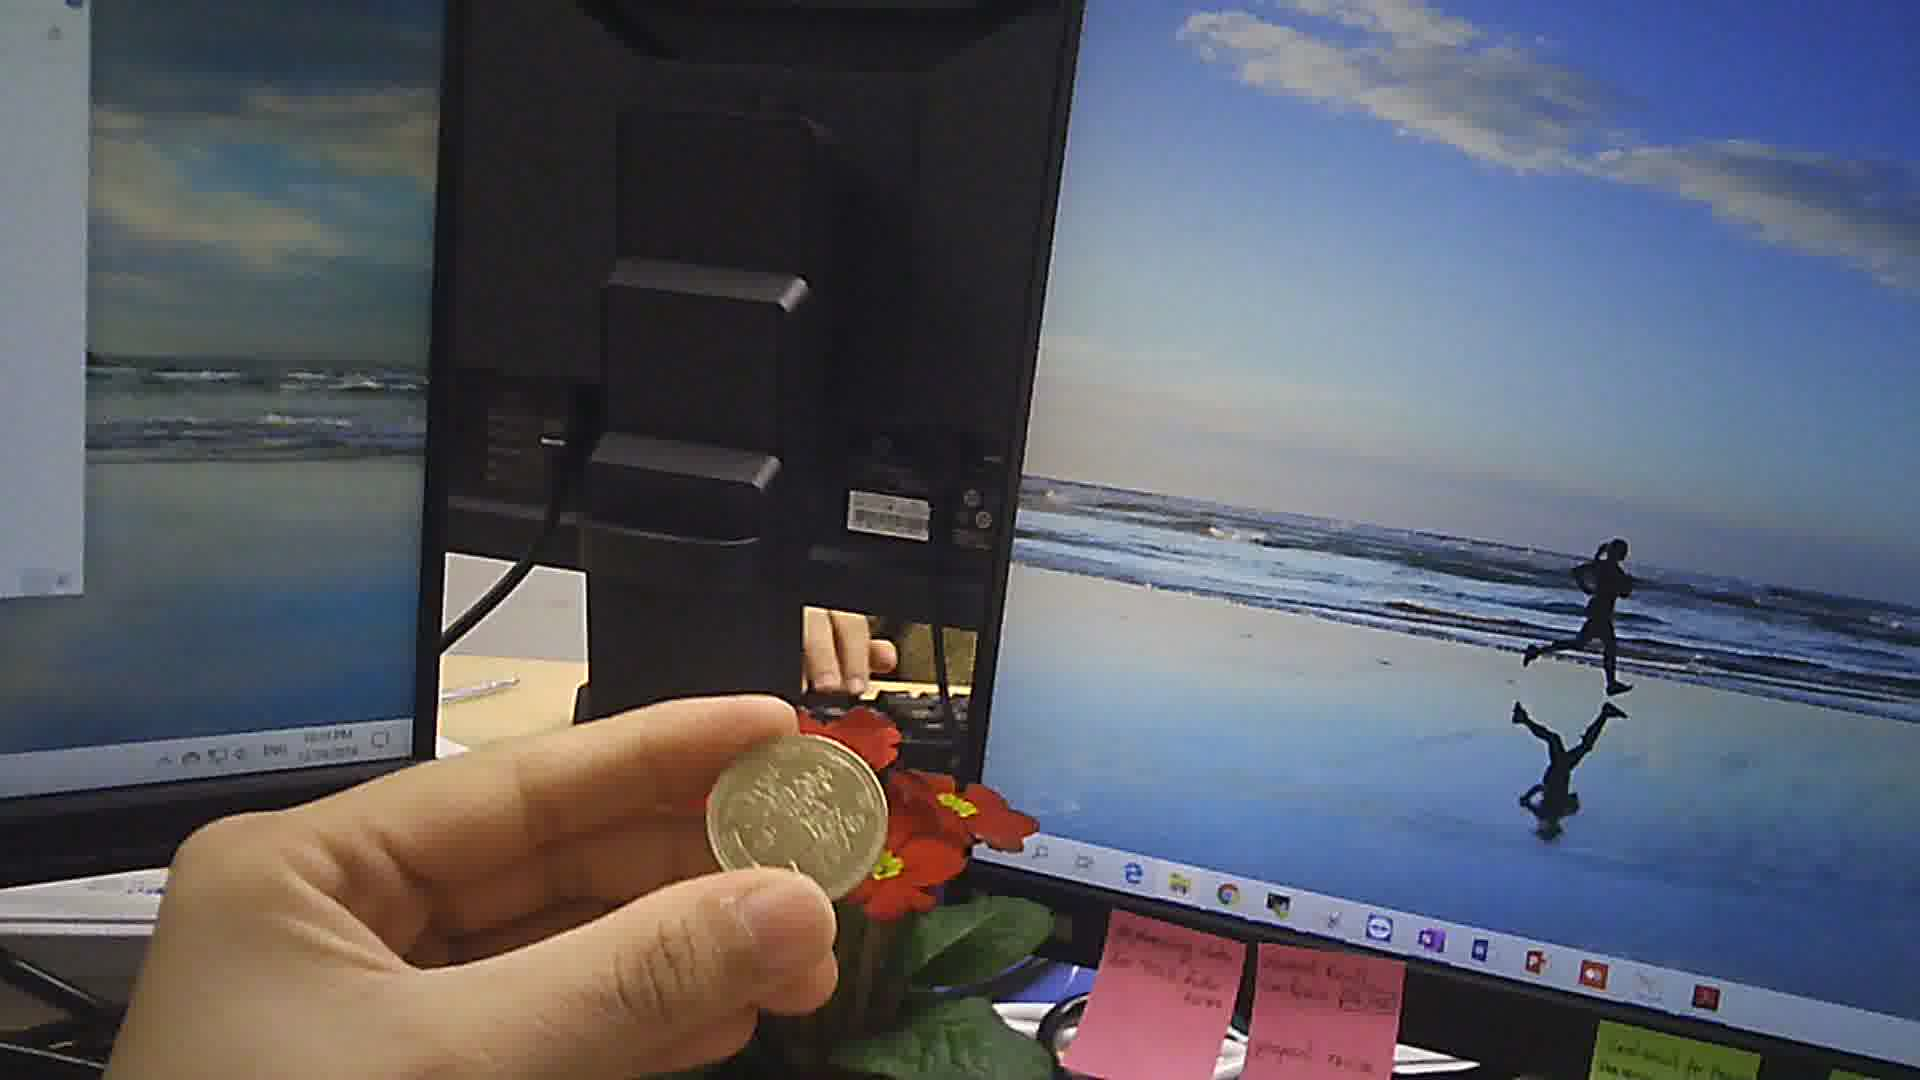500 Yen: (709, 737, 891, 897)
